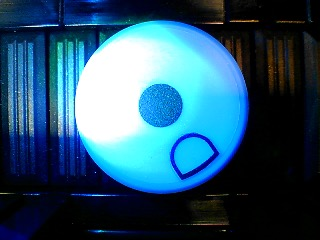BOHOMIPO1: (74, 20, 250, 194)
